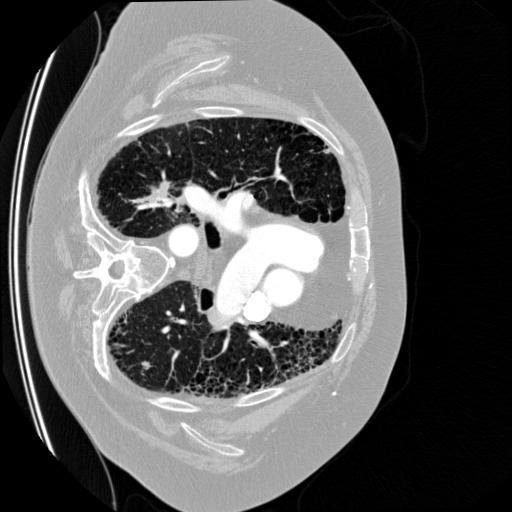nodule: (141, 362, 153, 374)
